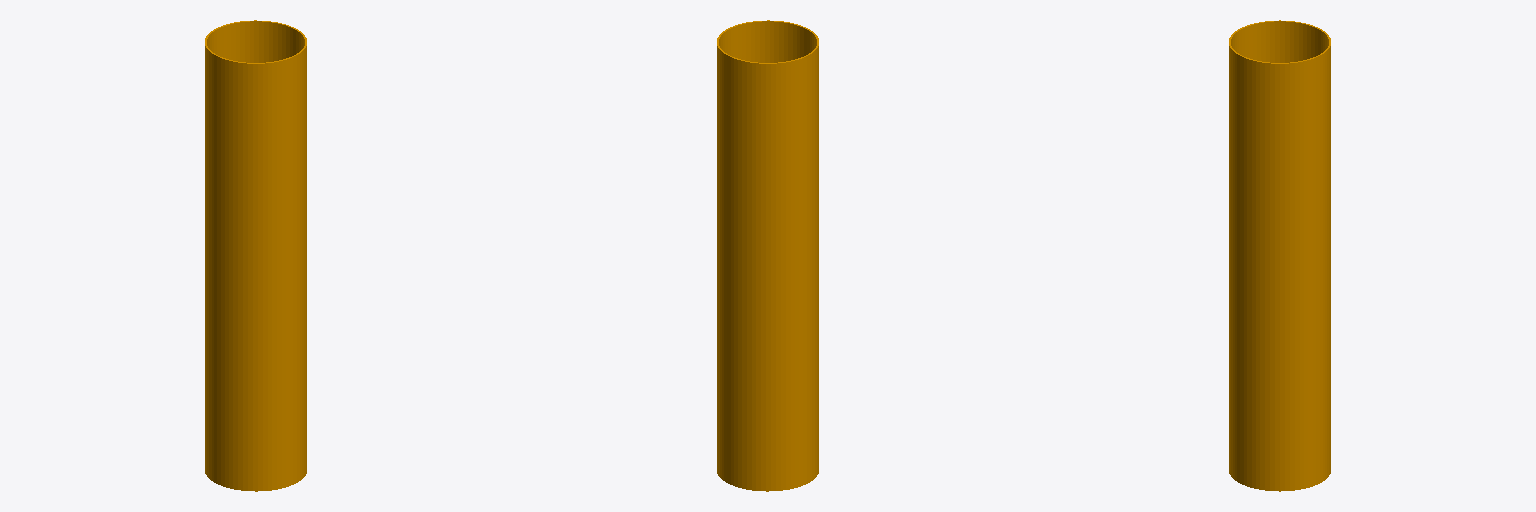
URDF robot description (large_alloy_tube):
<?xml version="1.0" ?>
<robot name="large_alloy_tube">
  <link name="base_link">
    <inertial>
      <origin xyz="0 0 0.0575" rpy="0 0 0"/>
      <mass value="0.0385"/>
      <inertia ixx="4.44354167e-05" ixy="0" ixz="0" iyy="4.44354167e-05" iyz="0" izz="4.01041667e-06"/>
    </inertial>
    <visual name="visual">
      <origin xyz="0 0 0" rpy="0 0 0"/>
      <geometry>
        <mesh filename="meshes/visual.obj" scale="1 1 1"/>
      </geometry>
    </visual>
    <collision name="wall_00">
      <origin xyz="0 0 0" rpy="0 0 0"/>
      <geometry>
        <mesh filename="meshes/collision/wall_00.obj" scale="1 1 1"/>
      </geometry>
    </collision>
    <collision name="wall_01">
      <origin xyz="0 0 0" rpy="0 0 0"/>
      <geometry>
        <mesh filename="meshes/collision/wall_01.obj" scale="1 1 1"/>
      </geometry>
    </collision>
    <collision name="wall_02">
      <origin xyz="0 0 0" rpy="0 0 0"/>
      <geometry>
        <mesh filename="meshes/collision/wall_02.obj" scale="1 1 1"/>
      </geometry>
    </collision>
    <collision name="wall_03">
      <origin xyz="0 0 0" rpy="0 0 0"/>
      <geometry>
        <mesh filename="meshes/collision/wall_03.obj" scale="1 1 1"/>
      </geometry>
    </collision>
    <collision name="wall_04">
      <origin xyz="0 0 0" rpy="0 0 0"/>
      <geometry>
        <mesh filename="meshes/collision/wall_04.obj" scale="1 1 1"/>
      </geometry>
    </collision>
    <collision name="wall_05">
      <origin xyz="0 0 0" rpy="0 0 0"/>
      <geometry>
        <mesh filename="meshes/collision/wall_05.obj" scale="1 1 1"/>
      </geometry>
    </collision>
    <collision name="wall_06">
      <origin xyz="0 0 0" rpy="0 0 0"/>
      <geometry>
        <mesh filename="meshes/collision/wall_06.obj" scale="1 1 1"/>
      </geometry>
    </collision>
    <collision name="wall_07">
      <origin xyz="0 0 0" rpy="0 0 0"/>
      <geometry>
        <mesh filename="meshes/collision/wall_07.obj" scale="1 1 1"/>
      </geometry>
    </collision>
    <collision name="wall_08">
      <origin xyz="0 0 0" rpy="0 0 0"/>
      <geometry>
        <mesh filename="meshes/collision/wall_08.obj" scale="1 1 1"/>
      </geometry>
    </collision>
    <collision name="wall_09">
      <origin xyz="0 0 0" rpy="0 0 0"/>
      <geometry>
        <mesh filename="meshes/collision/wall_09.obj" scale="1 1 1"/>
      </geometry>
    </collision>
    <collision name="wall_10">
      <origin xyz="0 0 0" rpy="0 0 0"/>
      <geometry>
        <mesh filename="meshes/collision/wall_10.obj" scale="1 1 1"/>
      </geometry>
    </collision>
    <collision name="wall_11">
      <origin xyz="0 0 0" rpy="0 0 0"/>
      <geometry>
        <mesh filename="meshes/collision/wall_11.obj" scale="1 1 1"/>
      </geometry>
    </collision>
    <collision name="wall_12">
      <origin xyz="0 0 0" rpy="0 0 0"/>
      <geometry>
        <mesh filename="meshes/collision/wall_12.obj" scale="1 1 1"/>
      </geometry>
    </collision>
    <collision name="wall_13">
      <origin xyz="0 0 0" rpy="0 0 0"/>
      <geometry>
        <mesh filename="meshes/collision/wall_13.obj" scale="1 1 1"/>
      </geometry>
    </collision>
    <collision name="wall_14">
      <origin xyz="0 0 0" rpy="0 0 0"/>
      <geometry>
        <mesh filename="meshes/collision/wall_14.obj" scale="1 1 1"/>
      </geometry>
    </collision>
    <collision name="wall_15">
      <origin xyz="0 0 0" rpy="0 0 0"/>
      <geometry>
        <mesh filename="meshes/collision/wall_15.obj" scale="1 1 1"/>
      </geometry>
    </collision>
  </link>
</robot>

--- What the picture shows (computed from the rendered views, not written in the file) ---
3 views of the same robot in one strip: view 1: azimuth 30°, elevation 25°; view 2: azimuth 150°, elevation 25°; view 3: azimuth 270°, elevation 25° (orthographic).
Robot: large_alloy_tube — 1 links, 0 joints (none); root link base_link; default pose: all joints at 0.
Visible links, largest first — view 1: base_link; view 2: base_link; view 3: base_link.
Link boxes in pixels (<box>): base_link: <box>205,20,306,491</box>; base_link: <box>717,20,818,491</box>; base_link: <box>1229,20,1330,491</box>.
Bounding box of the posed robot: 0.025 × 0.025 × 0.115 m (x, y, z).
1 mesh visuals loaded from 1 distinct referenced files (1 OBJ).
